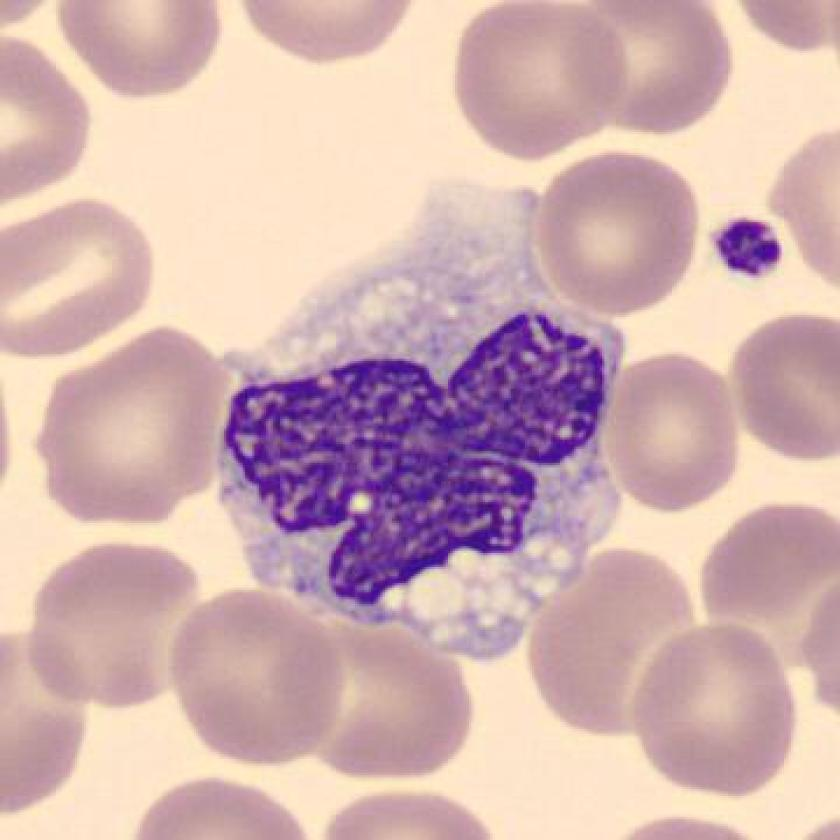monocyte: (195, 149, 657, 668)
